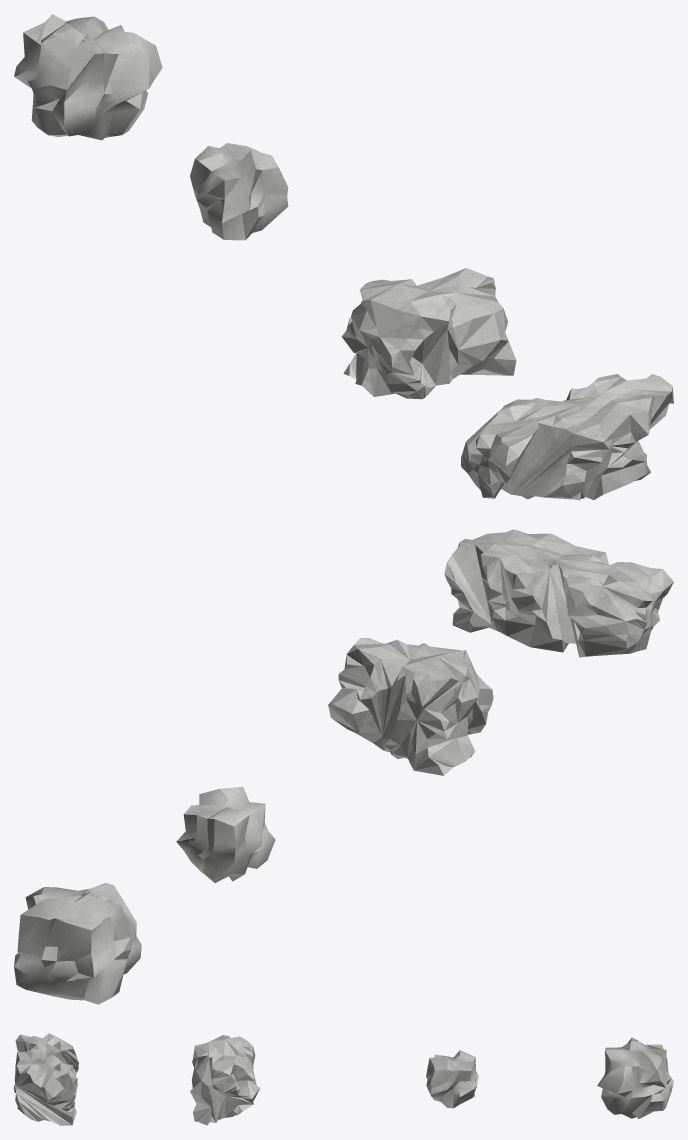
Rendered from cailloux.fbx.
3 renders of one model, top to bottom at view 1: azimuth 30°, elevation 25°; view 2: azimuth 150°, elevation 25°; view 3: azimuth 270°, elevation 25°, orthographic. The views are drawn at different scales.
Visible parts, largest first — view 1: RocheRestangle, RocheRectangle, RocheCube_2, RocheCube_1; view 2: RocheRestangle, RocheRectangle, RocheCube_2, RocheCube_1; view 3: RocheRestangle, RocheRectangle, RocheCube_2, RocheCube_1.
Part boxes in pixels (x1,y1,x2,y2): RocheRestangle: [461, 374, 673, 500]; RocheRectangle: [341, 268, 516, 399]; RocheCube_2: [14, 14, 162, 140]; RocheCube_1: [190, 143, 288, 240]; RocheRestangle: [444, 529, 673, 657]; RocheRectangle: [328, 638, 493, 775]; RocheCube_2: [14, 883, 141, 1004]; RocheCube_1: [176, 787, 275, 882]; RocheRestangle: [14, 1033, 78, 1125]; RocheRectangle: [190, 1035, 259, 1125]; RocheCube_2: [597, 1037, 673, 1118]; RocheCube_1: [426, 1050, 478, 1108].
Bounding box in the file's own units: 477 × 259 × 2284.
1 material, 1 textured.
